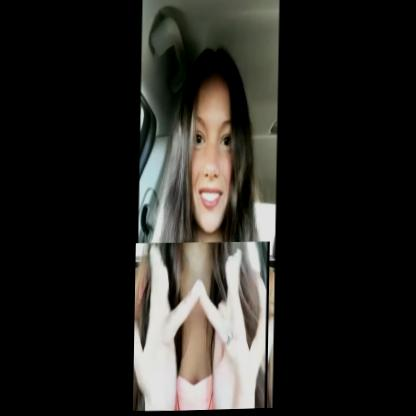Internet: (132, 241, 269, 413)
